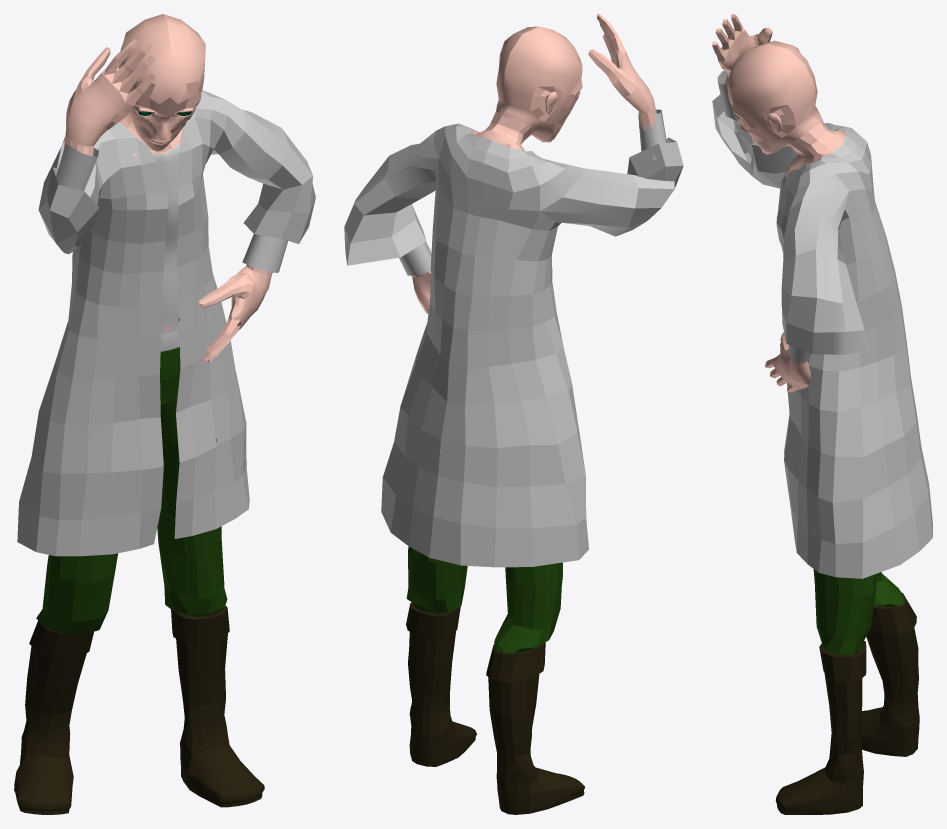
The model's file is DA_CHAR-S_Apprentice02.fbx.
3 views of the same model, side by side, from view 1: azimuth 30°, elevation 25°; view 2: azimuth 150°, elevation 25°; view 3: azimuth 270°, elevation 25° (orthographic). The views are drawn at different scales.
Parts seen in each view (by area): view 1: Outfit_2_Sun2, Apprentice_5; view 2: Outfit_2_Sun2, Apprentice_5; view 3: Outfit_2_Sun2, Apprentice_5.
Part boxes in pixels (x1,y1,x2,y2): Outfit_2_Sun2: (17, 90, 315, 556); Apprentice_5: (14, 14, 272, 814); Outfit_2_Sun2: (344, 109, 683, 567); Apprentice_5: (406, 14, 656, 814); Outfit_2_Sun2: (712, 70, 932, 578); Apprentice_5: (712, 14, 919, 814).
Size of the model in its own units: 68.82 by 171 by 46.53.
